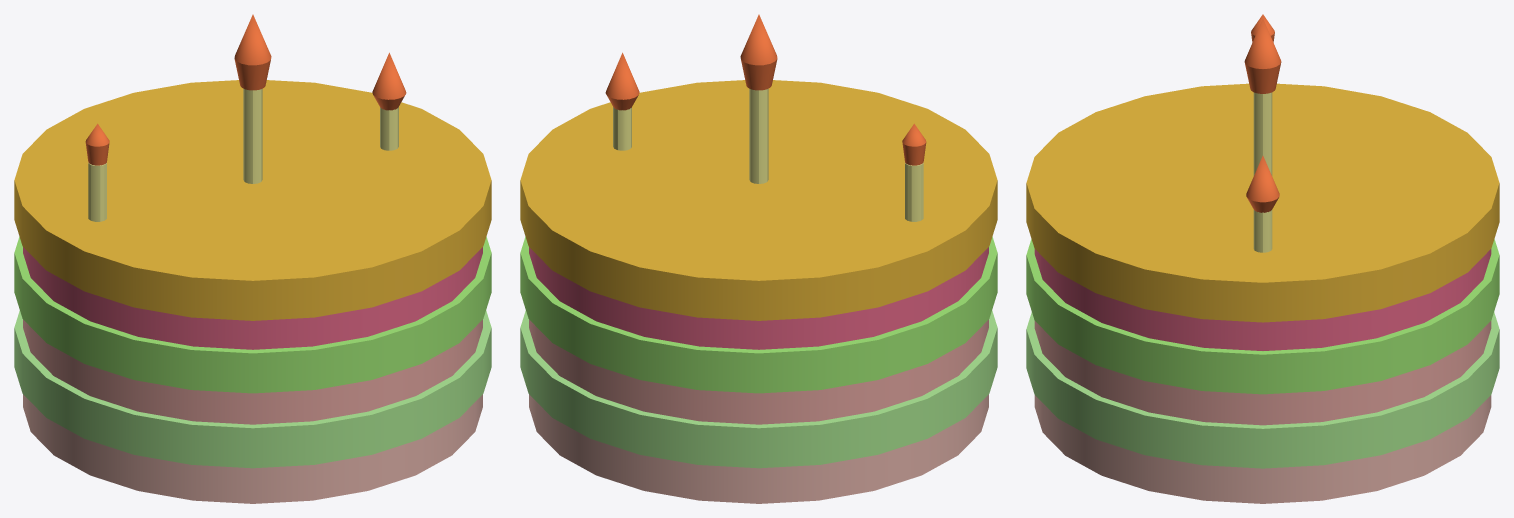
The model's file is 4 cake.fbx.
3 views of the same model, side by side, from view 1: azimuth 30°, elevation 25°; view 2: azimuth 150°, elevation 25°; view 3: azimuth 270°, elevation 25° (orthographic).
Visible parts, largest first — view 1: 4 cake; view 2: 4 cake; view 3: 4 cake.
Part boxes in pixels (x1,y1,x2,y2): 4 cake: (14, 14, 491, 503); 4 cake: (520, 14, 997, 503); 4 cake: (1026, 14, 1499, 503).
Bounding box in the file's own units: 18.36 × 16.68 × 18.36.
